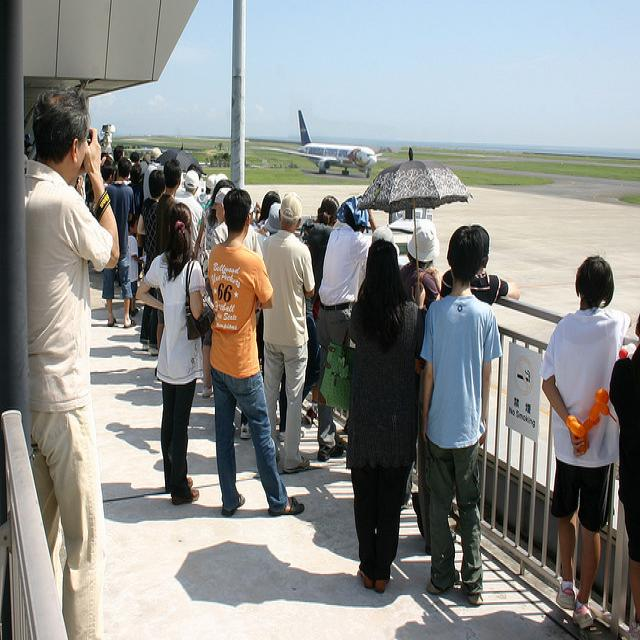airplane: (248, 107, 390, 179)
